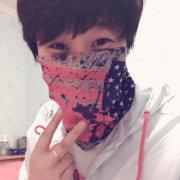OK: (41, 20, 124, 103)
